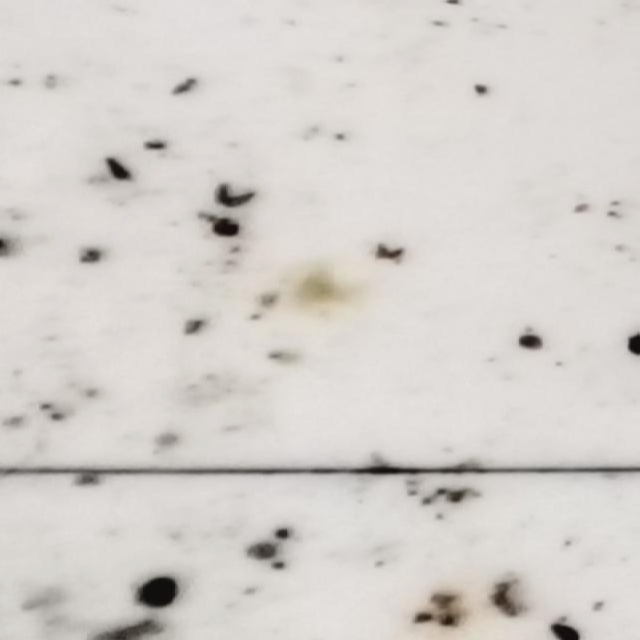varroa: (134, 575, 179, 609)
